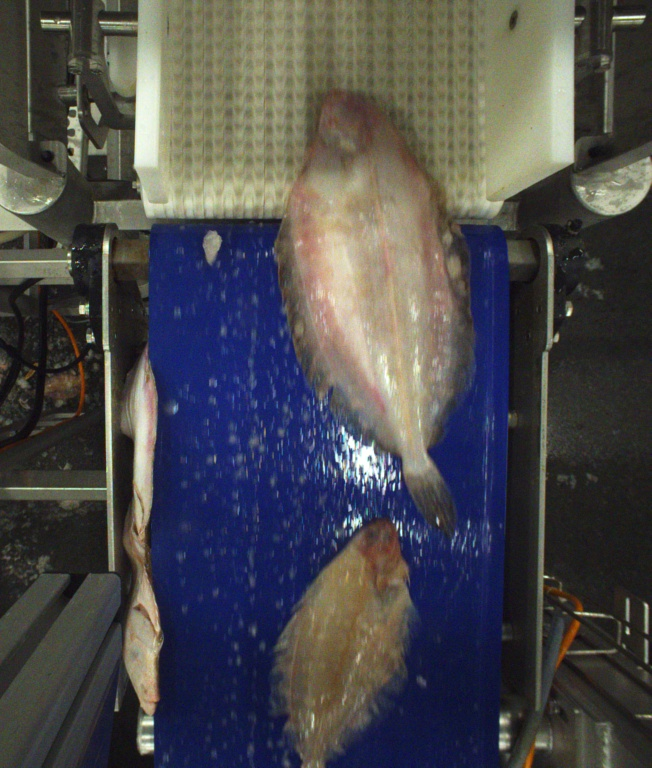WIT: (268, 520, 415, 768)
